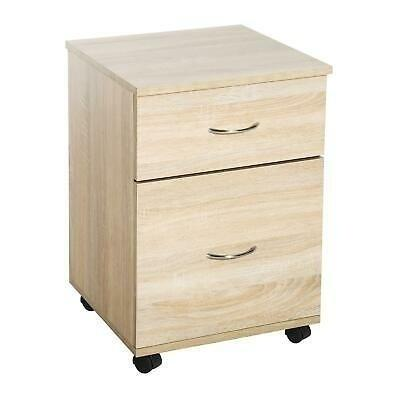cabinet_door: (139, 172, 324, 339), (139, 85, 326, 169)
handle: (205, 118, 261, 142), (203, 245, 260, 267)
